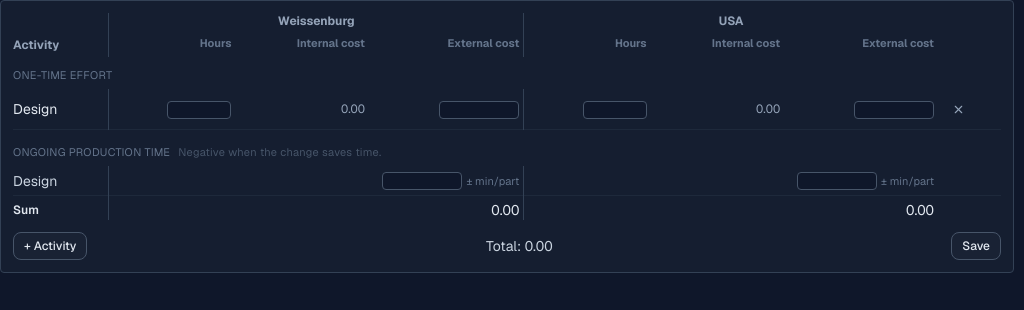
CostLineGrid matrix › keeps ongoing production time in its own block, one input per plant
Type "-1.5" into the number field with test id "minutes-a1-20" at coordinates (837, 181), box x1=797 y1=172 x2=877 y2=190
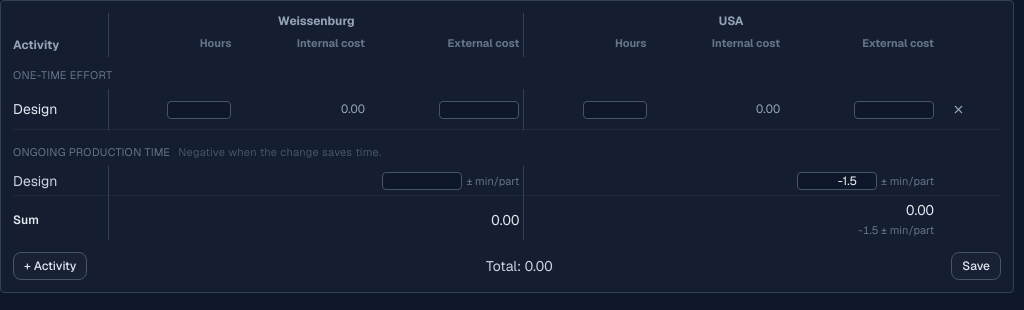
Expected: the row with test id "lifecycle-row-a1" is shown, x1=13 y1=166 x2=1001 y2=196
Expected: the cell with test id "plant-sum-20" shows "-1.5", x1=858 y1=223 x2=878 y2=237
